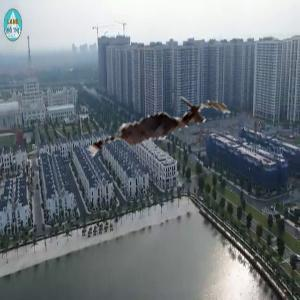drone: (67, 50, 230, 213)
